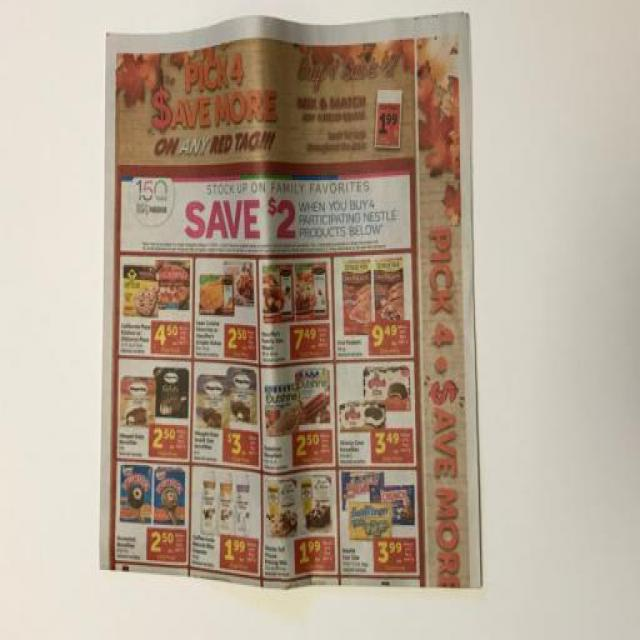paper: (97, 17, 497, 605)
